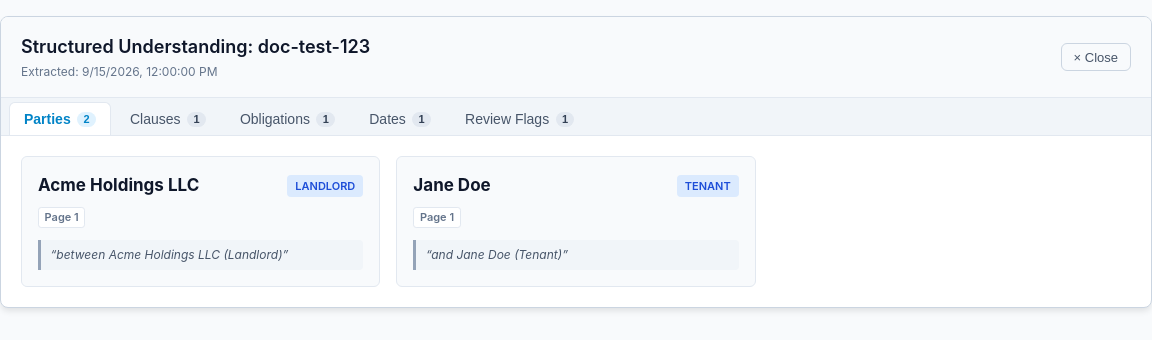
Test: DocumentUnderstandingView Component › switches tabs to Dates and displays normalized ISO tags
Click the tab "Dates 1": (400, 119) [354, 102, 446, 135]
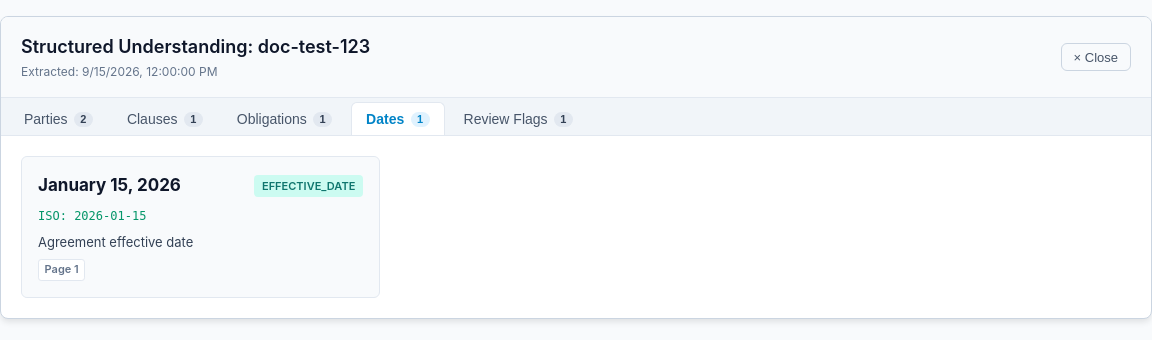
expect the heading "January 15, 2026" is shown: met, box [38, 173, 181, 199]
expect the text "ISO: 2026-01-15" is shown: met, box [38, 209, 146, 223]
expect the text "Agreement effective date" is shown: met, box [38, 234, 193, 250]
